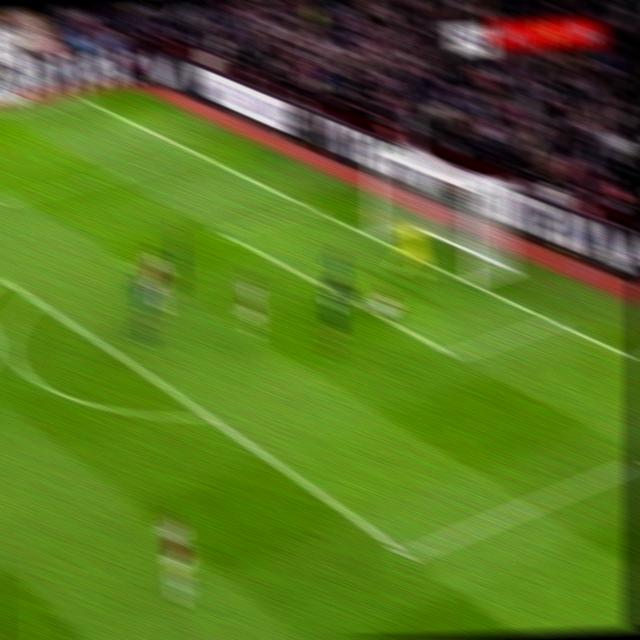bigarea_bottom_inner: (390, 537, 427, 575)
bigarea_top_outter: (189, 144, 210, 162)
bottom_arc_area_intersection: (193, 400, 221, 430)
corner: (65, 90, 90, 106)
smallarea_bottom_inner: (440, 337, 469, 371)
smallarea_bottom_outter: (539, 306, 566, 334)
smallarea_top_inner: (212, 221, 238, 243)
smallarea_top_outter: (300, 198, 324, 220)
top_arc_area_intersection: (22, 286, 45, 310)
